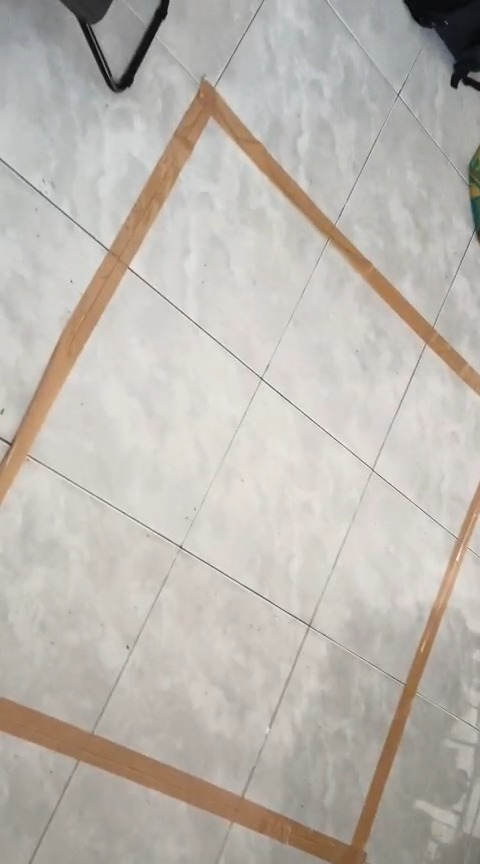floor marking: (0, 82, 479, 503), (0, 482, 479, 863)
